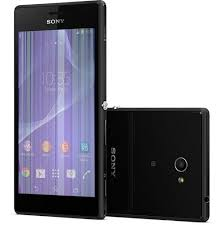sony: (14, 1, 106, 220)
